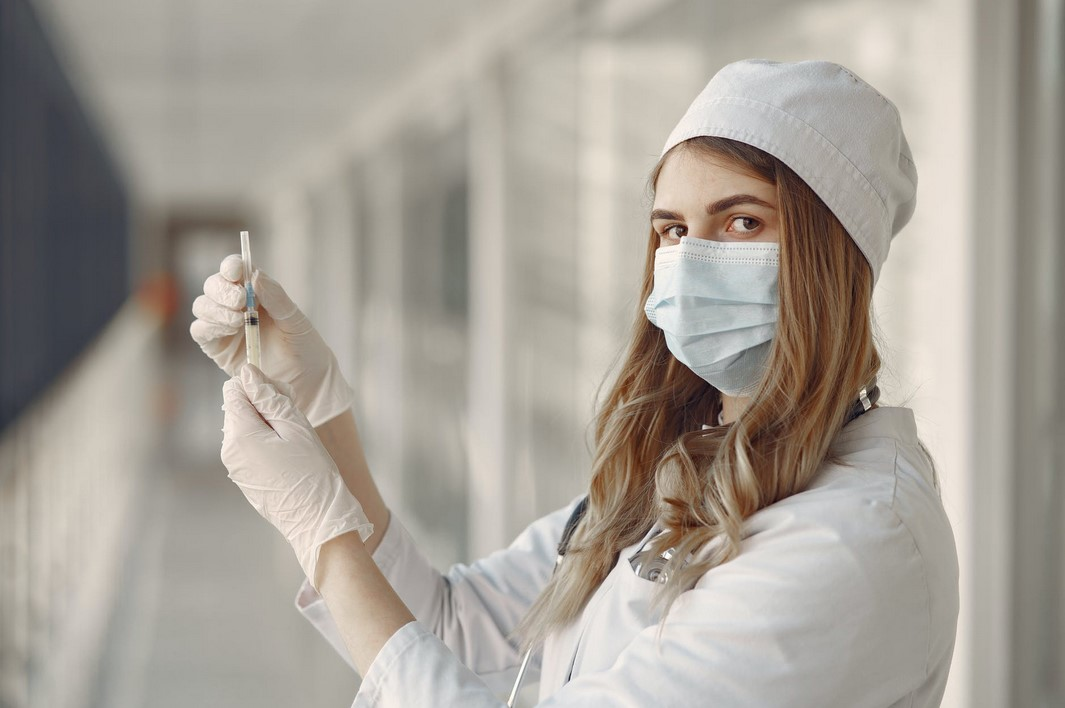face_with_mask: (637, 57, 922, 406)
